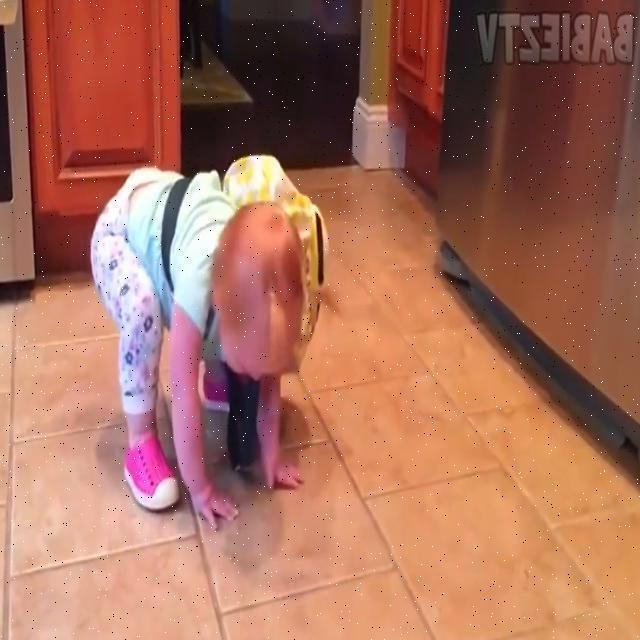child: (91, 153, 328, 529)
